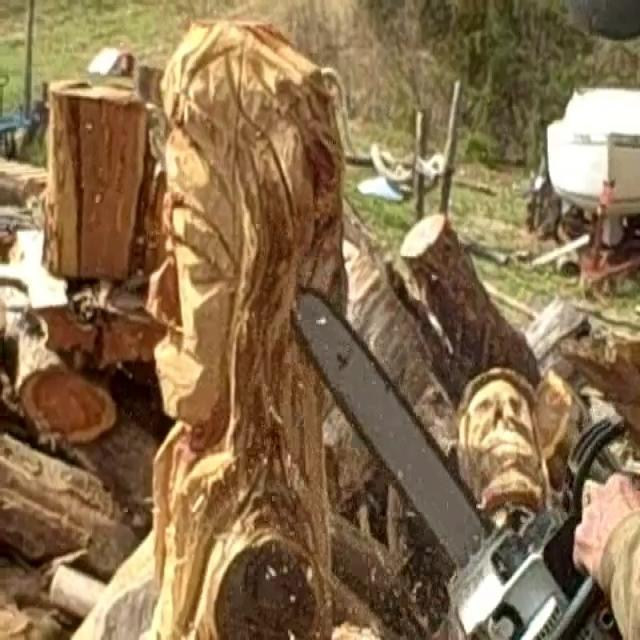Chainsaw: (255, 258, 640, 638)
